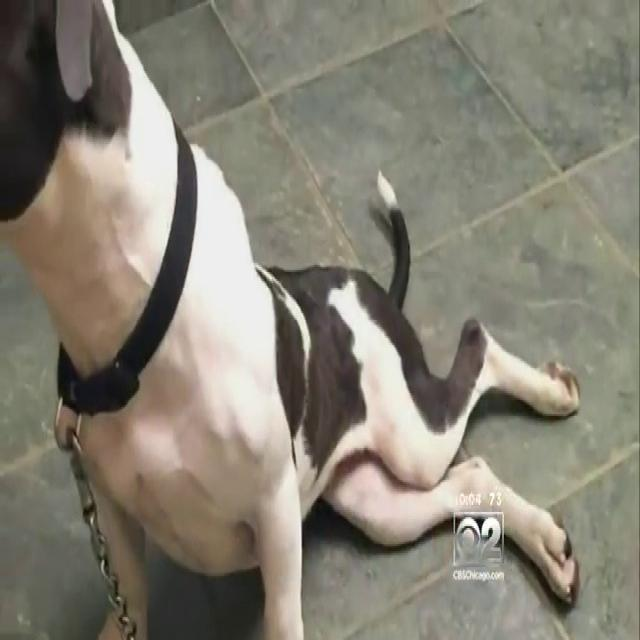normal_animals: (3, 4, 586, 631)
